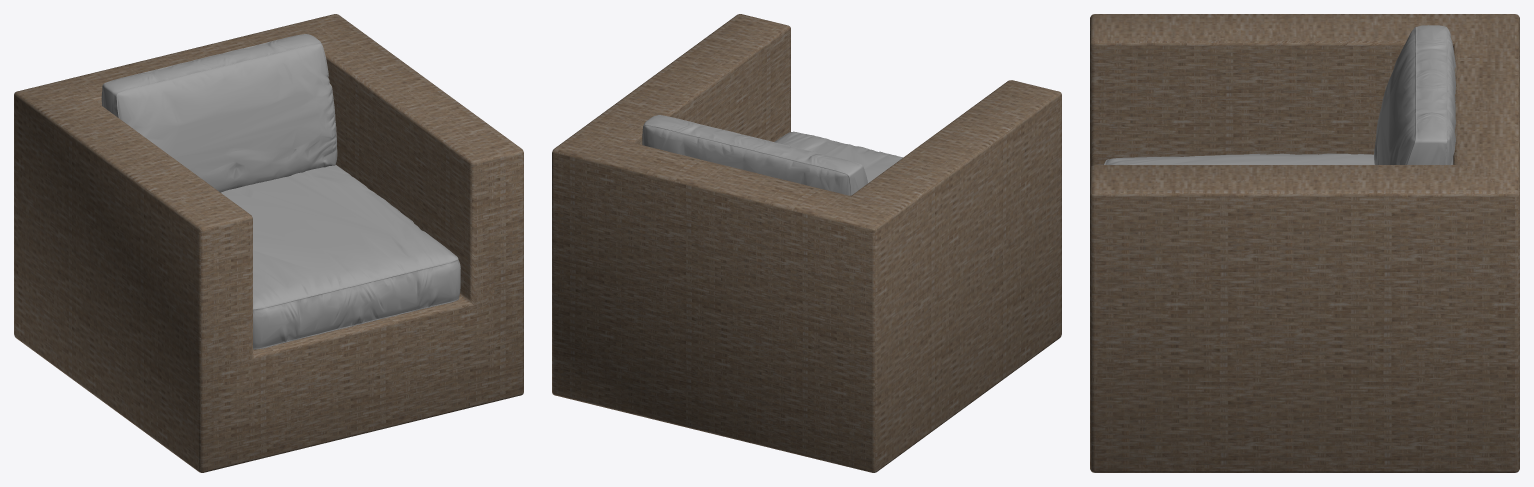
Rendered from resized_chair.glb.
The picture shows the model from 3 angles, left to right: view 1: azimuth 30°, elevation 25°; view 2: azimuth 150°, elevation 25°; view 3: azimuth 270°, elevation 25°; orthographic projection. The views are drawn at different scales.
Parts seen in each view (by area): view 1: couch fiber seat one; view 2: couch fiber seat one; view 3: couch fiber seat one.
Boxes of the visible parts, x1,y1,x2,y2 form: couch fiber seat one: (14, 14, 523, 472); couch fiber seat one: (552, 14, 1061, 472); couch fiber seat one: (1090, 14, 1519, 472).
Bounding box in the file's own units: 0.9661 × 0.7654 × 0.97.
3 materials, 2 textured.
